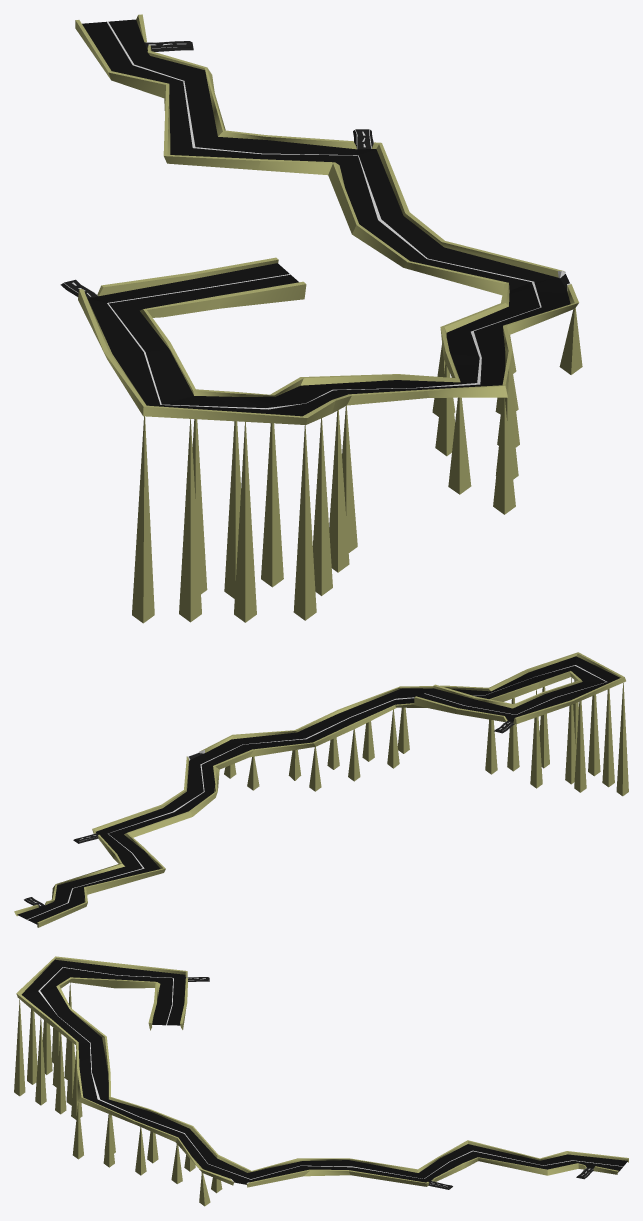
The model's file is c_highway.fbx.
3 renders of one model, top to bottom at view 1: azimuth 30°, elevation 25°; view 2: azimuth 150°, elevation 25°; view 3: azimuth 270°, elevation 25°, orthographic. The views are drawn at different scales.
Parts seen in each view (by area): view 1: c_highway; view 2: c_highway; view 3: c_highway.
Part boxes in pixels (left/top/right/bottom): c_highway: left=60, top=14, right=582, bottom=623; c_highway: left=14, top=652, right=628, bottom=927; c_highway: left=14, top=956, right=628, bottom=1206.
Size of the model in its own units: 154 by 53.35 by 262.
